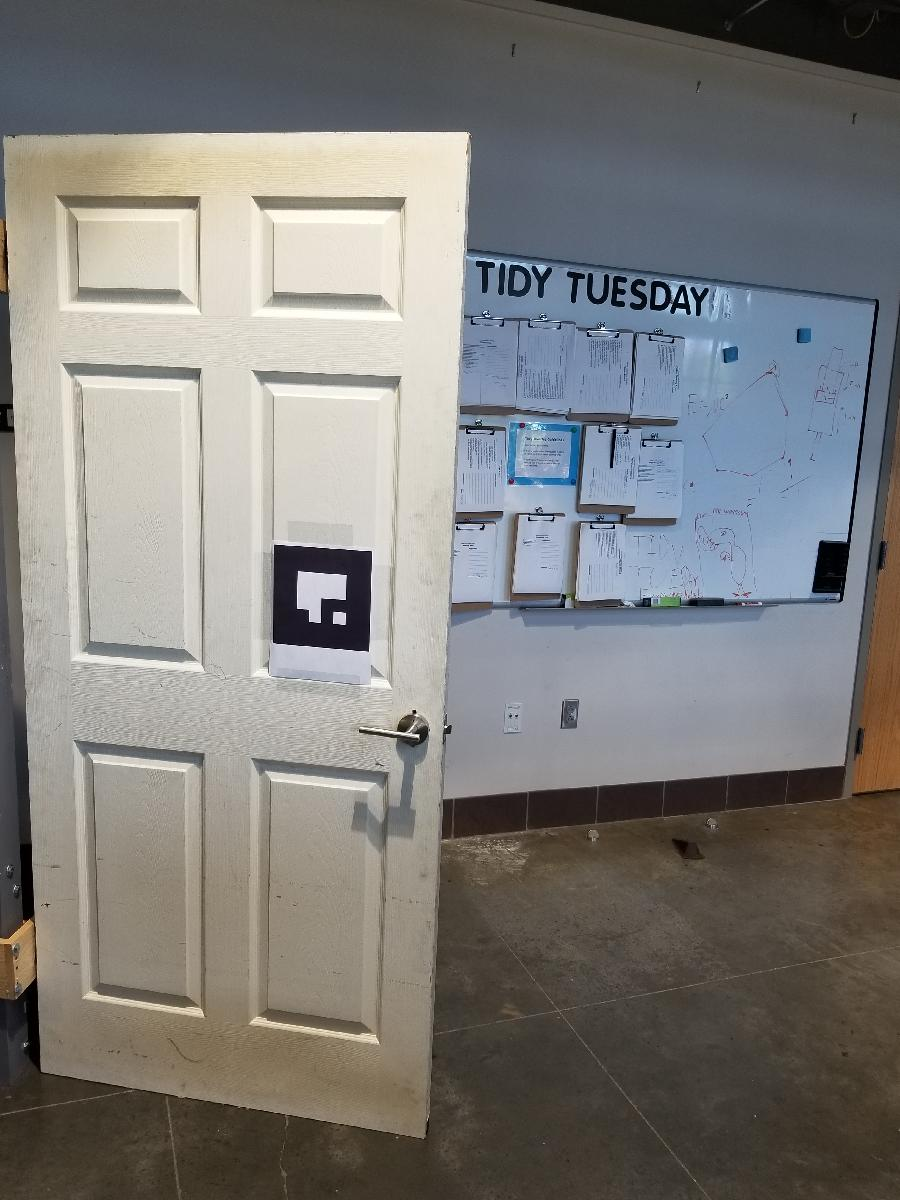door: (36, 129, 476, 1142)
doorHandle: (354, 702, 442, 755)
